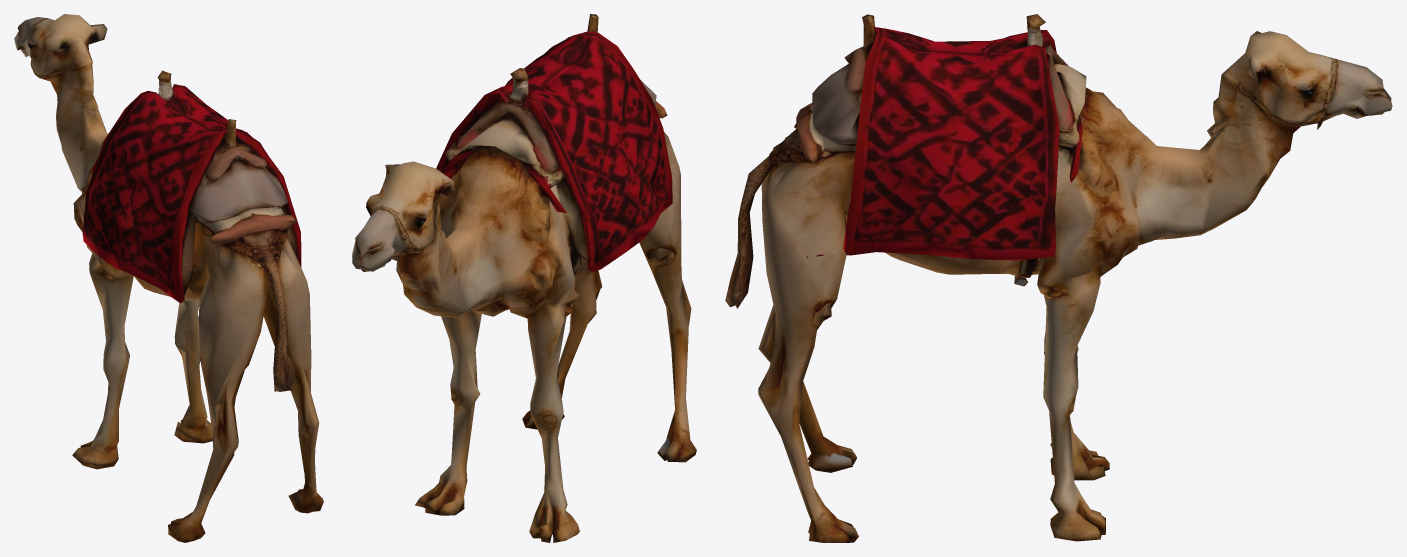
The model's file is camel.glb.
3 renders of one model, left to right at view 1: azimuth 30°, elevation 25°; view 2: azimuth 150°, elevation 25°; view 3: azimuth 270°, elevation 25°, orthographic. The views are drawn at different scales.
Parts seen in each view (by area): view 1: tripo_node_edcae787-6c5d-4494-a975-e59045af92e7; view 2: tripo_node_edcae787-6c5d-4494-a975-e59045af92e7; view 3: tripo_node_edcae787-6c5d-4494-a975-e59045af92e7.
Part boxes in pixels (x1,y1,x2,y2): tripo_node_edcae787-6c5d-4494-a975-e59045af92e7: (14, 14, 323, 542); tripo_node_edcae787-6c5d-4494-a975-e59045af92e7: (352, 14, 696, 542); tripo_node_edcae787-6c5d-4494-a975-e59045af92e7: (725, 14, 1392, 542).
Bounding box in the file's own units: 0.3453 × 0.8036 × 0.9969.
1 material, 1 textured.
